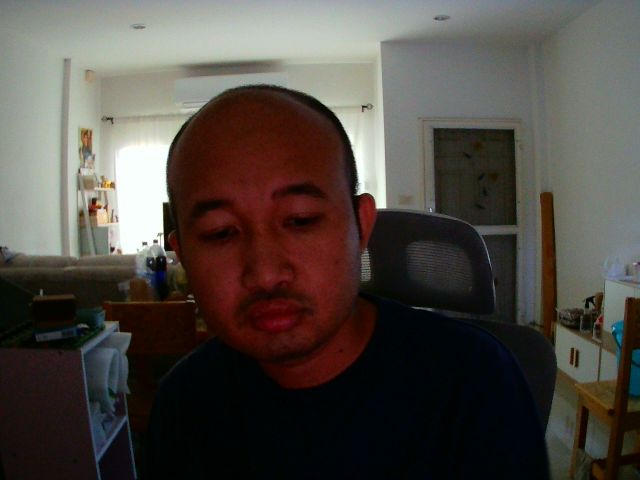face: (159, 85, 363, 366)
